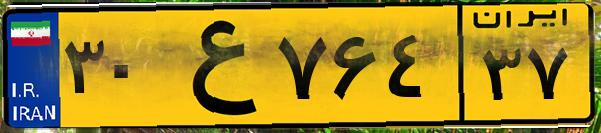0: (110, 28, 158, 98)
3: (57, 26, 110, 100), (475, 38, 525, 113)
4: (385, 28, 445, 110)
6: (330, 28, 385, 110)
7: (270, 28, 330, 110), (525, 38, 570, 115)
ع: (158, 12, 270, 120)
